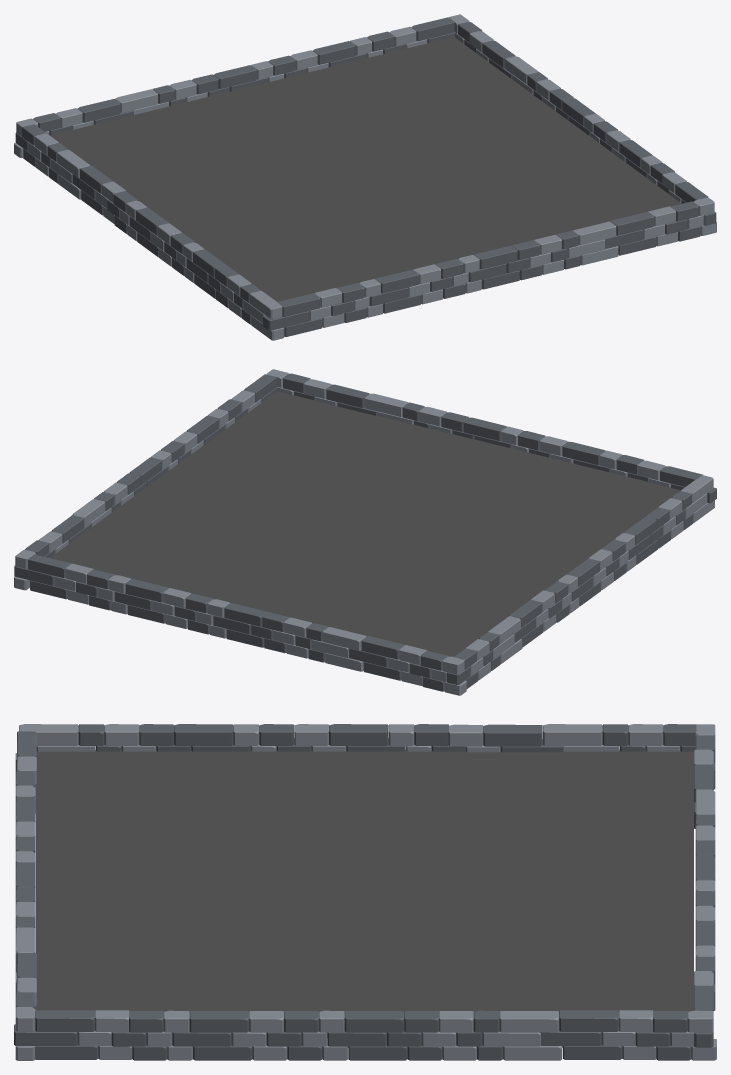
Rendered from L8Ground.fbx.
3 views of the same model, one above another, from view 1: azimuth 30°, elevation 25°; view 2: azimuth 150°, elevation 25°; view 3: azimuth 270°, elevation 25° (orthographic). The views are drawn at different scales.
Parts seen in each view (by area): view 1: polySurface1813, polySurface1812; view 2: polySurface1813, polySurface1812; view 3: polySurface1813, polySurface1812.
Part boxes in pixels (bbox=[...]): polySurface1813: bbox=[50, 37, 681, 301]; polySurface1812: bbox=[14, 14, 716, 340]; polySurface1813: bbox=[50, 391, 680, 656]; polySurface1812: bbox=[14, 369, 716, 695]; polySurface1813: bbox=[35, 750, 693, 1047]; polySurface1812: bbox=[14, 724, 716, 1060].
Bounding box in the file's own units: 1474 × 96.95 × 1472.
